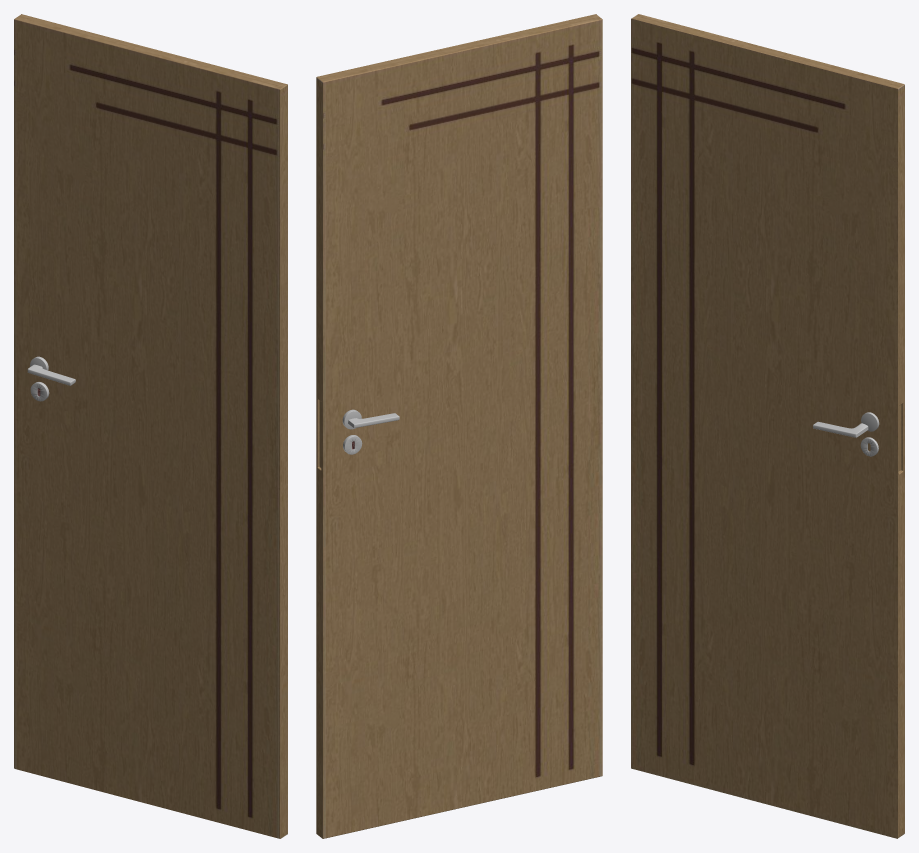
File: door_body.glb
The picture shows the model from 3 angles, left to right: view 1: azimuth 90°, elevation 25°; view 2: azimuth 150°, elevation 25°; view 3: azimuth 270°, elevation 25°; orthographic projection.
Parts seen in each view (by area): view 1: Porta pB190.001; view 2: Porta pB190.001; view 3: Porta pB190.001.
Part boxes in pixels (x1,y1,x2,y2): Porta pB190.001: (14, 14, 287, 838); Porta pB190.001: (316, 14, 602, 838); Porta pB190.001: (631, 14, 904, 838).
Size of the model in its own units: 0.4938 by 2.1 by 0.6945.
Materials: 3 (1 with a texture image).
